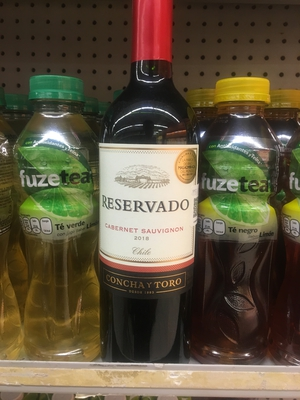reservado cabernet sauvignon: (87, 5, 200, 357)
